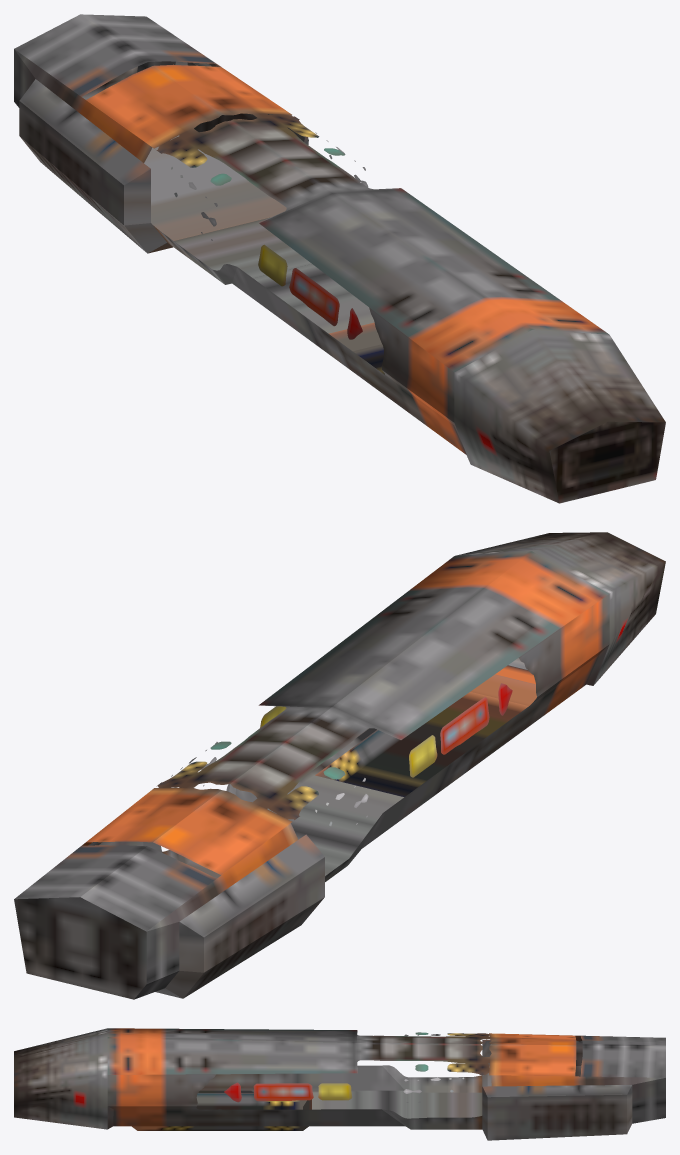
3 views of the same model, one above another, from view 1: azimuth 30°, elevation 25°; view 2: azimuth 150°, elevation 25°; view 3: azimuth 270°, elevation 25° (orthographic). The views are drawn at different scales.
Visible parts, largest first — view 1: PulsarGunUV; view 2: PulsarGunUV; view 3: PulsarGunUV.
Boxes of the visible parts, bbox=[...] form: PulsarGunUV: bbox=[14, 14, 665, 503]; PulsarGunUV: bbox=[14, 532, 665, 999]; PulsarGunUV: bbox=[14, 1028, 665, 1140].
Bounding box in the file's own units: 3.61 × 2.47 × 17.85.
